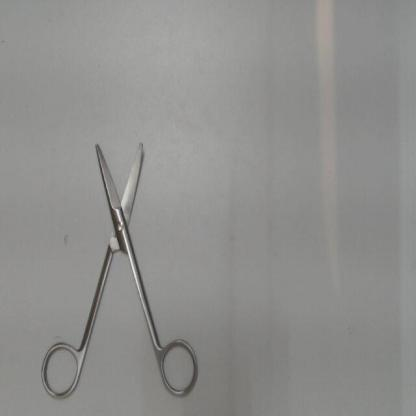Curved Mayo Scissors: (36, 126, 205, 406)
